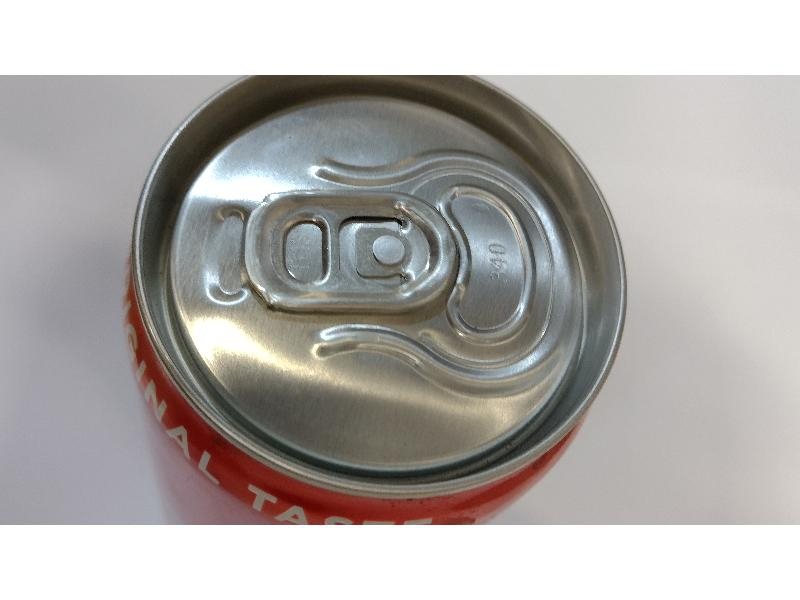can: (121, 78, 634, 523)
